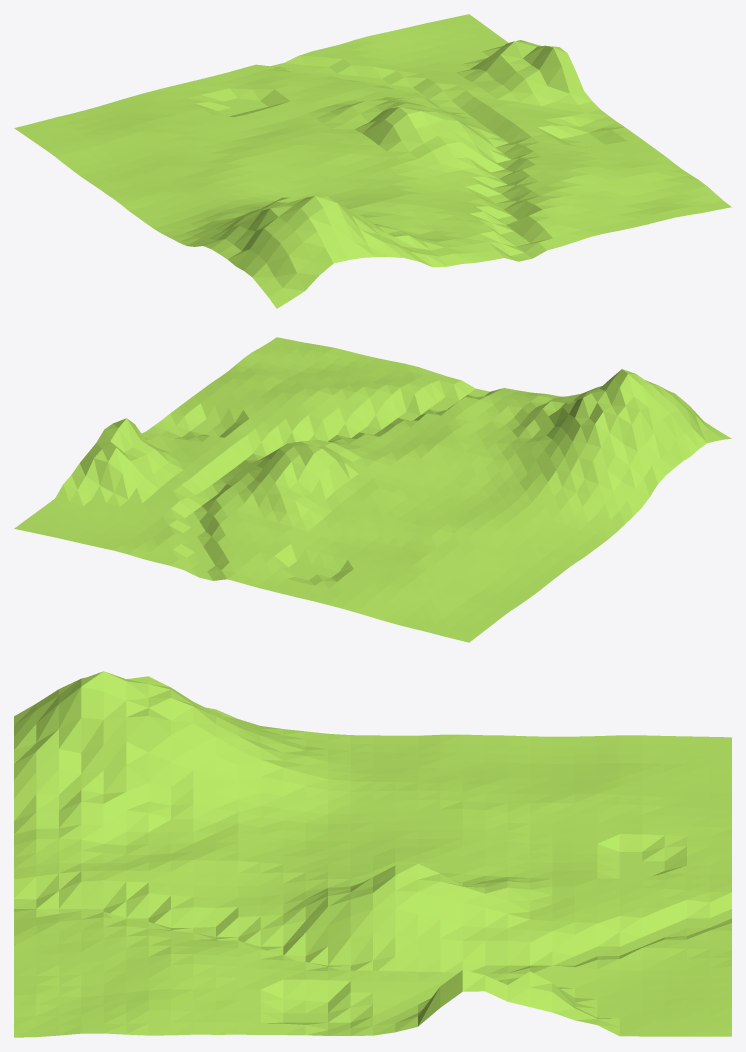
Rendered from map_ecoworld.fbx.
The picture shows the model from 3 angles, top to bottom: view 1: azimuth 30°, elevation 25°; view 2: azimuth 150°, elevation 25°; view 3: azimuth 270°, elevation 25°; orthographic projection. The views are drawn at different scales.
Parts seen in each view (by area): view 1: Terrain; view 2: Terrain; view 3: Terrain.
Boxes of the visible parts, <box> form: Terrain: <box>14,14,731,308</box>; Terrain: <box>14,337,731,642</box>; Terrain: <box>14,671,731,1037</box>.
Size of the model in its own units: 100000 by 17576 by 100000.
